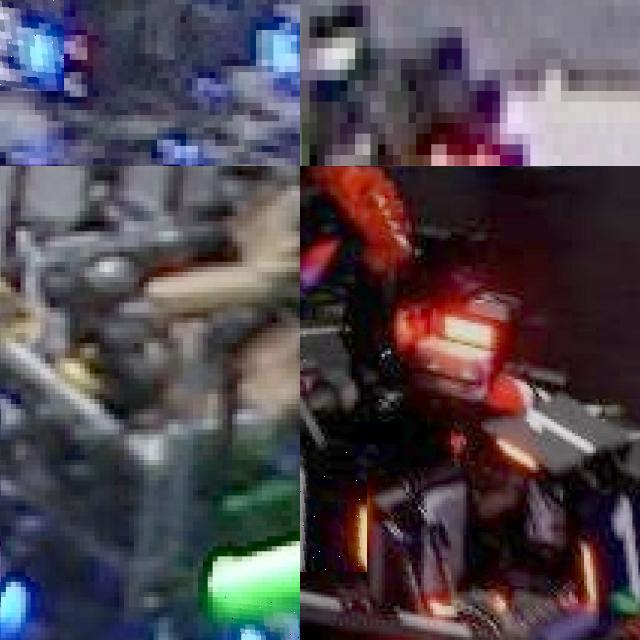B2: (0, 0, 64, 90), (0, 538, 38, 635), (225, 597, 300, 640)
R1: (484, 399, 618, 470), (575, 487, 640, 611), (300, 450, 366, 572)
